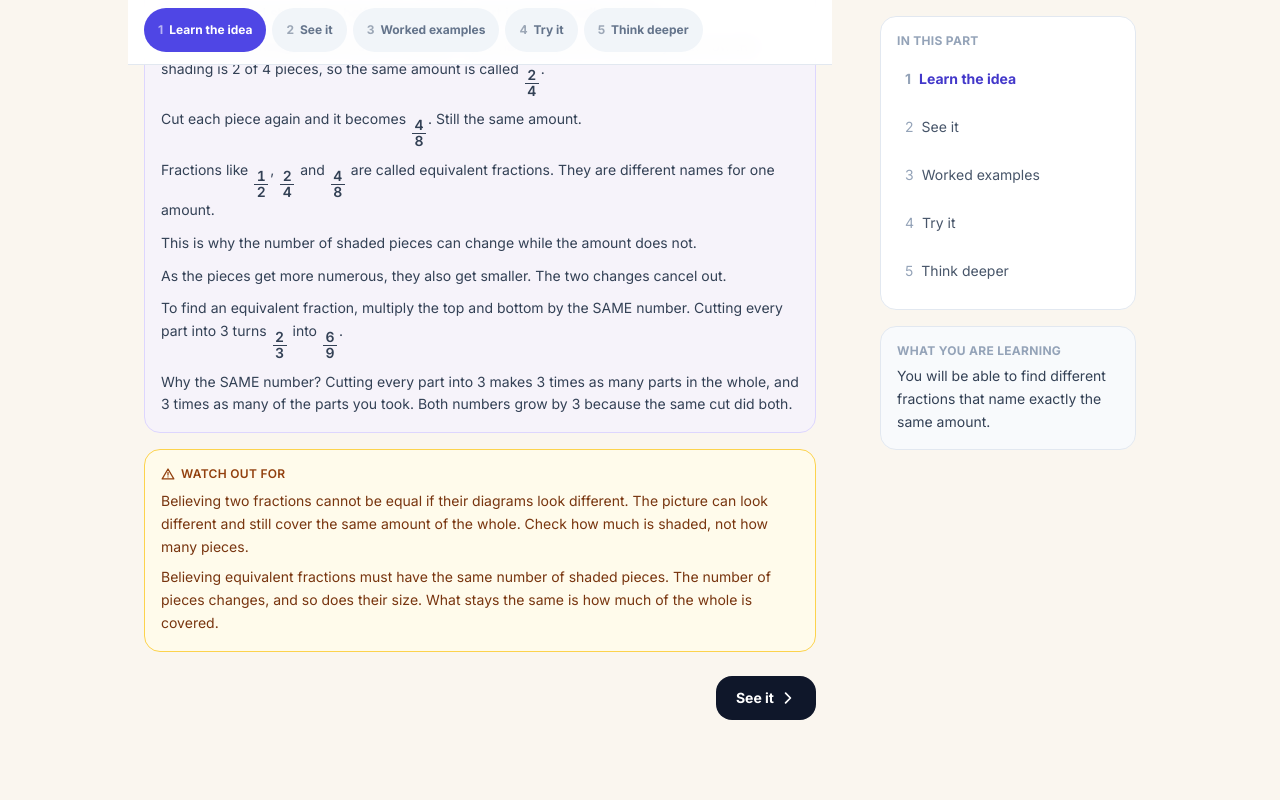
Test: §12 the lesson is staged, not one long document › needs one control per stage, not one per block
(page scrolled)
Click the button "See it" at point(766, 698), box [716, 676, 816, 720]
(page scrolled)
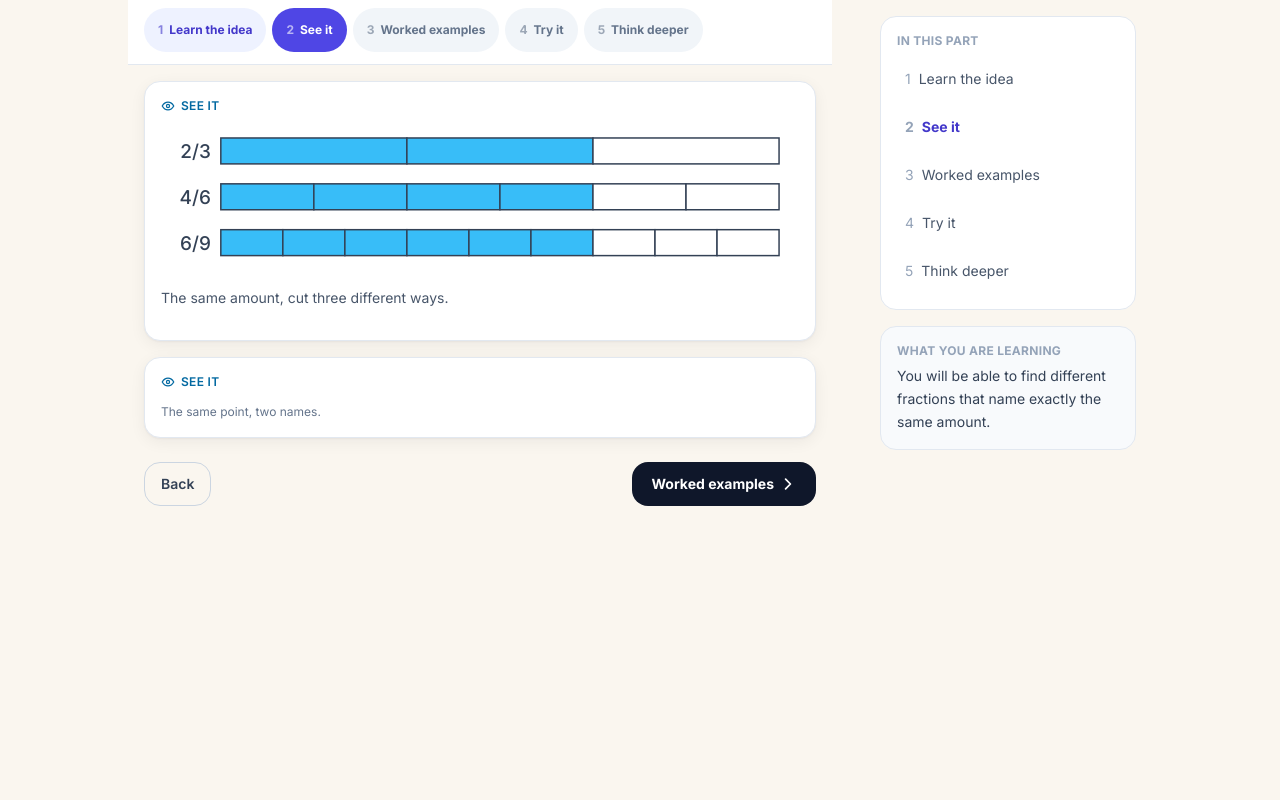
Click the button "Worked examples" at point(724, 484), box [632, 462, 816, 506]
(page scrolled)
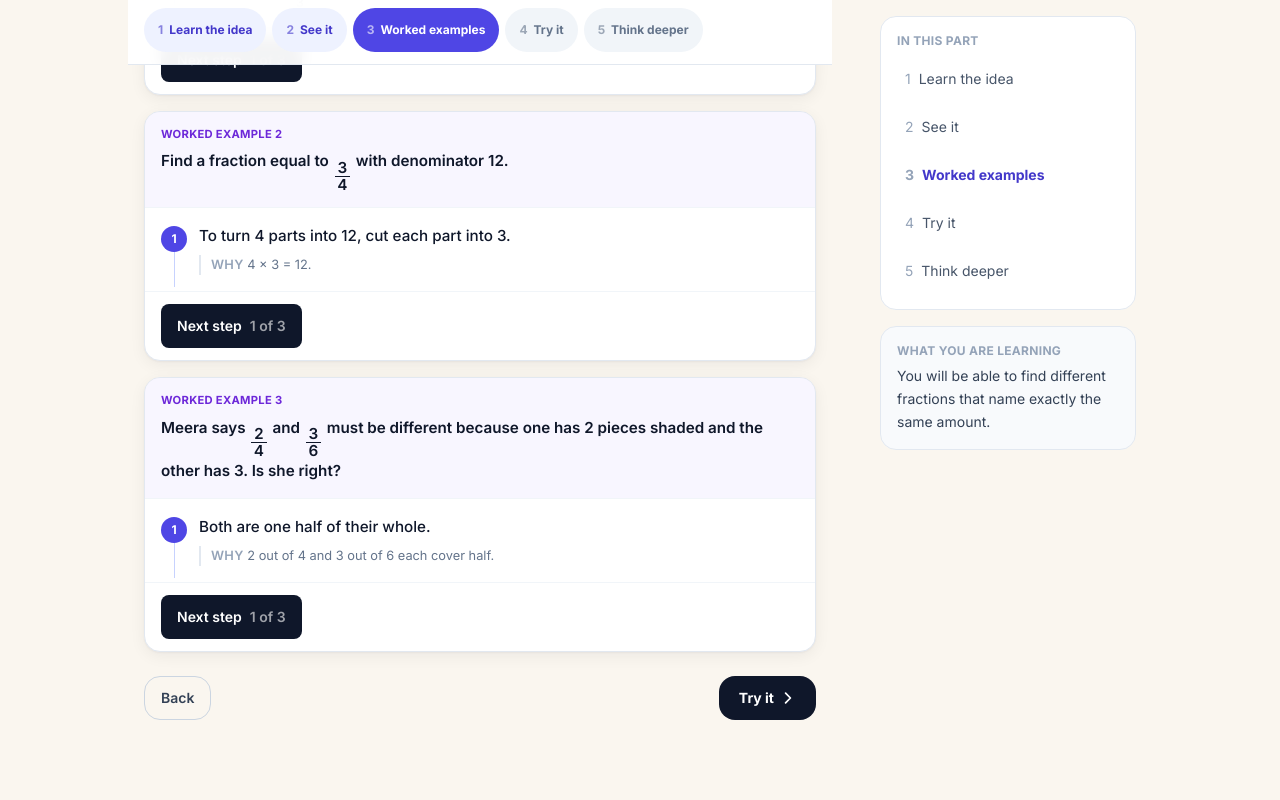
Click the button "Try it" at point(767, 698), box [719, 676, 816, 720]
(page scrolled)
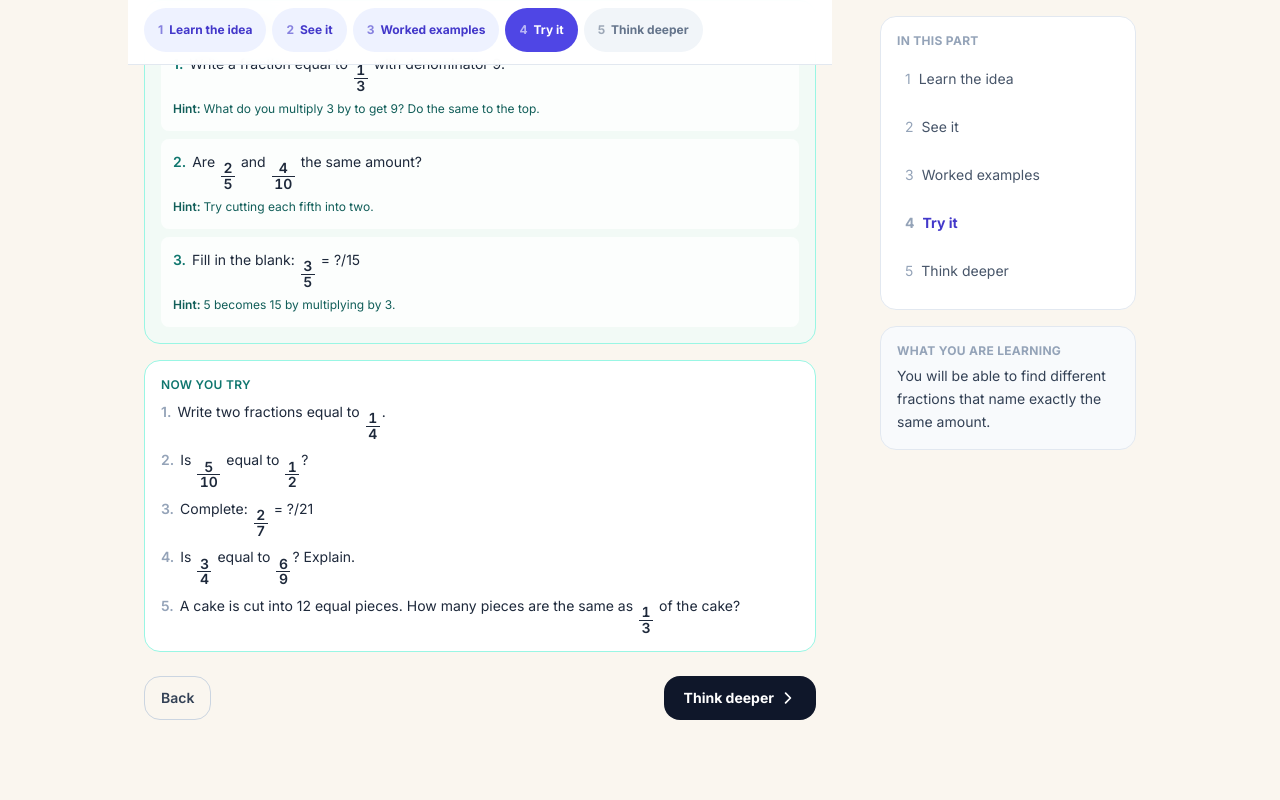
Click the button "Think deeper" at point(740, 698), box [664, 676, 816, 720]
(page scrolled)
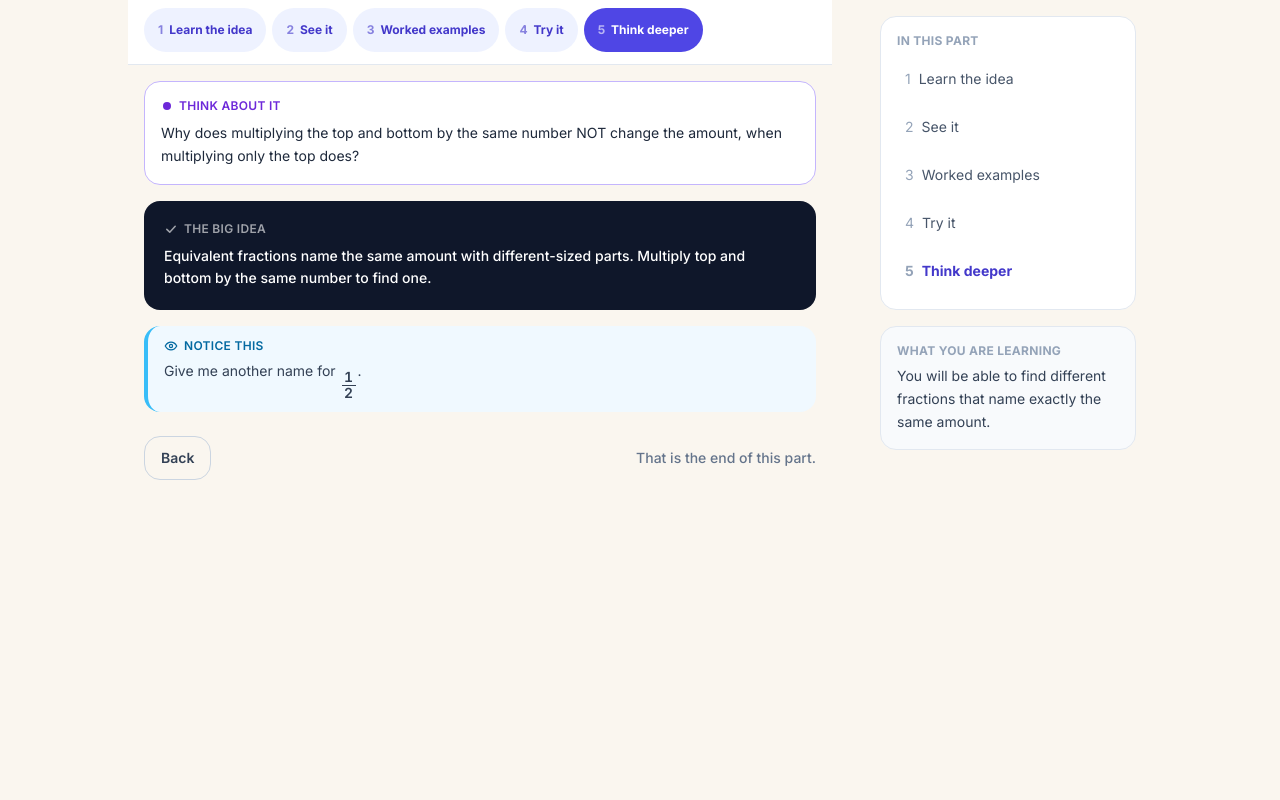
expect the text "Equivalent fractions name the" is shown: met, box [164, 246, 745, 286]
